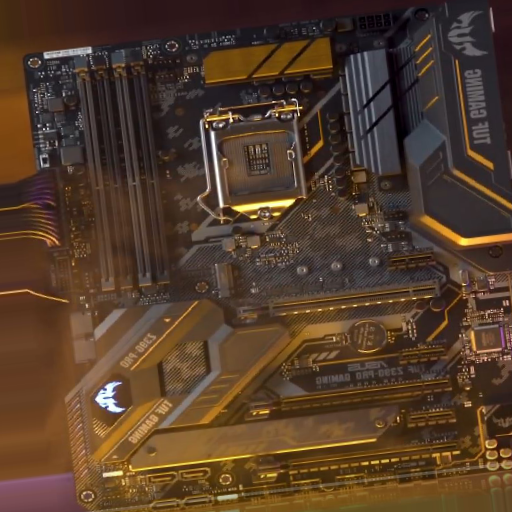CPU: (211, 100, 302, 225)
GPU: (232, 278, 442, 326), (252, 438, 461, 485), (243, 375, 452, 421)
MOTHERBOARD: (30, 4, 510, 504)
RAM: (74, 51, 172, 292)
SSD: (212, 261, 240, 302)
